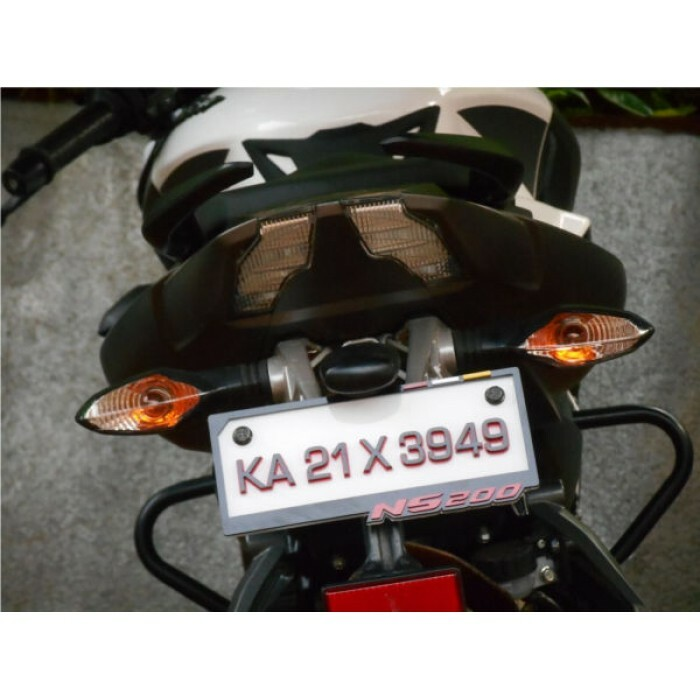n: (181, 391, 538, 507)
